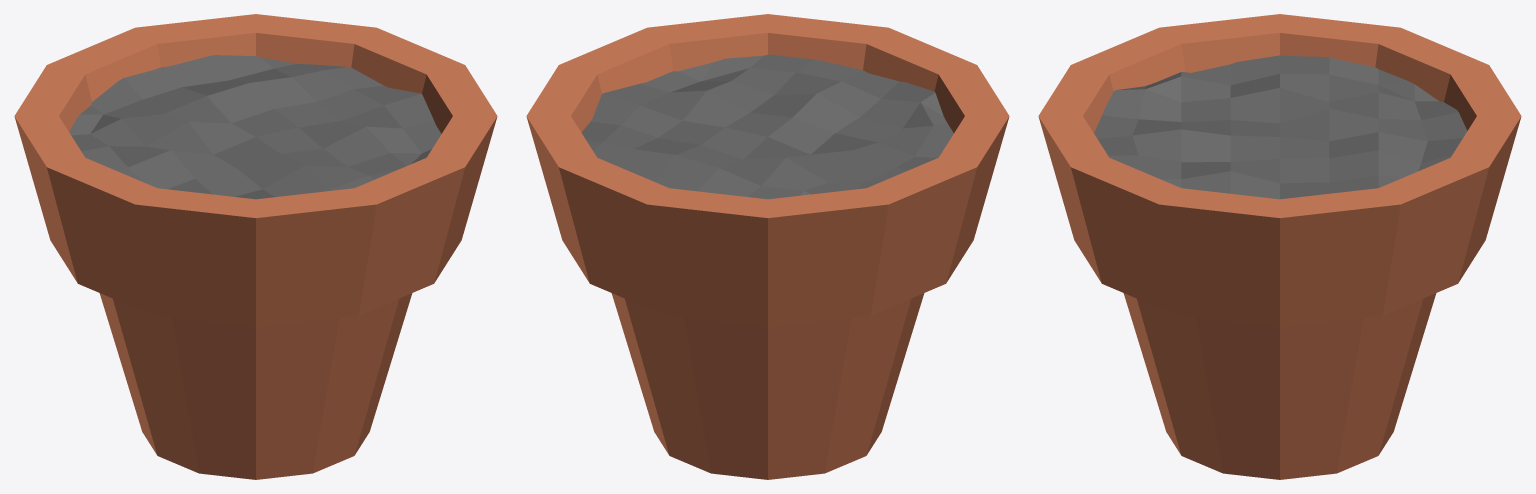
Rendered from Pot.fbx.
The picture shows the model from 3 angles, left to right: view 1: azimuth 30°, elevation 25°; view 2: azimuth 150°, elevation 25°; view 3: azimuth 270°, elevation 25°; orthographic projection.
Parts seen in each view (by area): view 1: Pot, Soil; view 2: Pot, Soil; view 3: Pot, Soil.
Boxes of the visible parts, x1,y1,x2,y2 form: Pot: (14,14,497,479); Soil: (69,55,441,199); Pot: (526,14,1009,479); Soil: (581,54,953,199); Pot: (1038,14,1521,479); Soil: (1094,55,1467,199).
Size of the model in its own units: 18.21 by 13.14 by 18.21.
